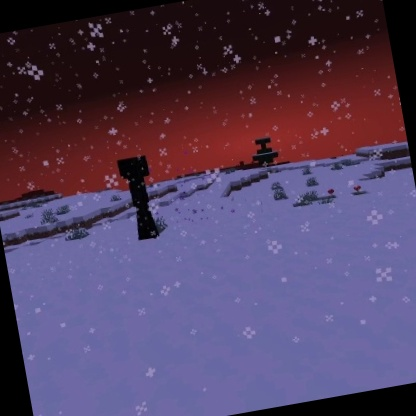enderman: (114, 153, 164, 245)
